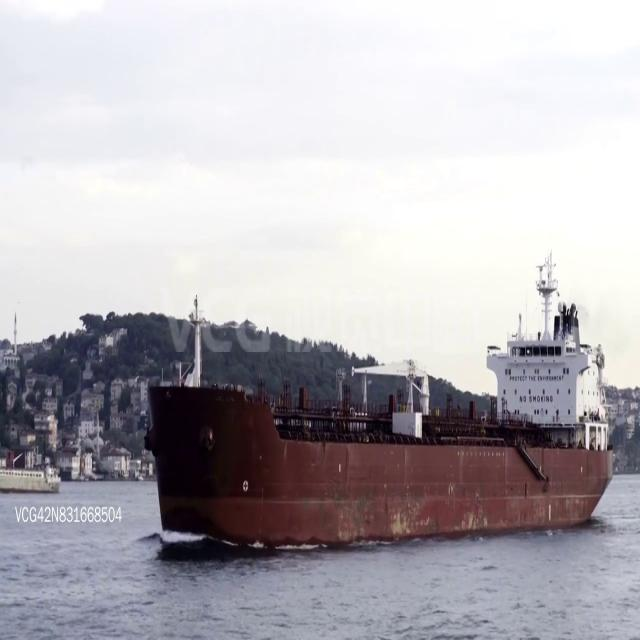cargoship: (145, 288, 609, 547), (0, 458, 61, 489)
